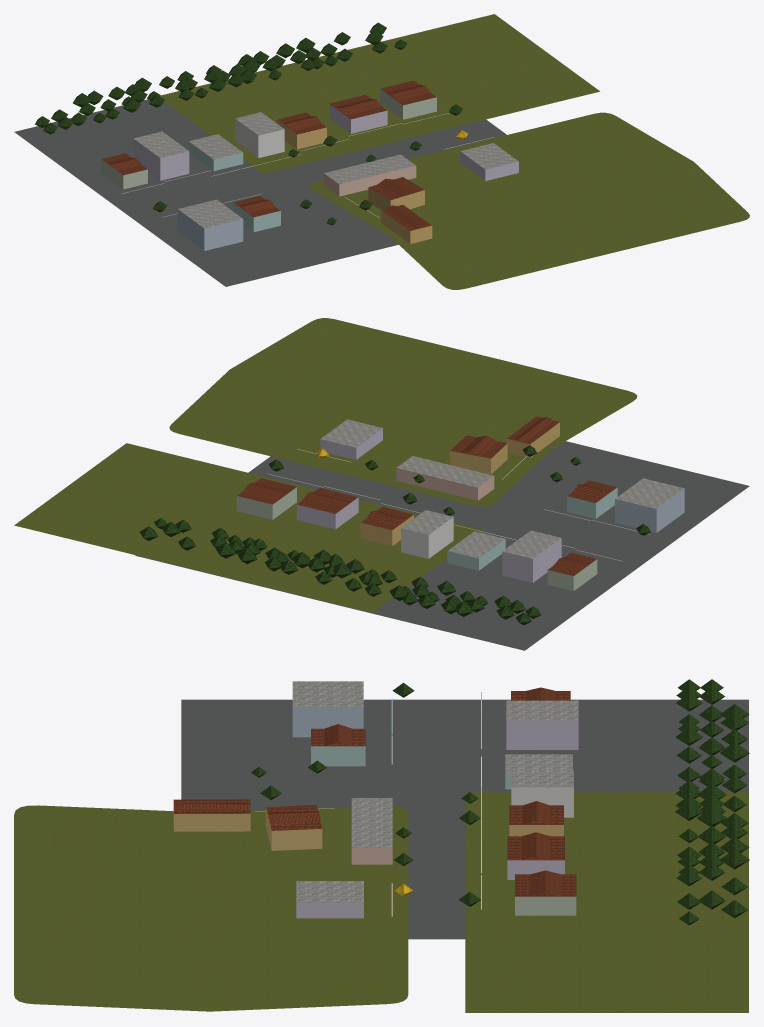
File: cidade_S04_07_lod.gltf
3 renders of one model, top to bottom at view 1: azimuth 30°, elevation 25°; view 2: azimuth 150°, elevation 25°; view 3: azimuth 270°, elevation 25°, orthographic. The views are drawn at different scales.
Parts seen in each view (by area): view 1: S04_07_Chao_LOD2, S04_07_Edificios_LOD1, S04_07_Vegetacao_LOD2, S04_07_Silhueta_LOD2; view 2: S04_07_Chao_LOD2, S04_07_Edificios_LOD1, S04_07_Vegetacao_LOD2, S04_07_Silhueta_LOD2; view 3: S04_07_Chao_LOD2, S04_07_Edificios_LOD1, S04_07_Vegetacao_LOD2, S04_07_Silhueta_LOD2.
Part boxes in pixels (x1,y1,x2,y2): S04_07_Chao_LOD2: (14, 14, 749, 289); S04_07_Edificios_LOD1: (101, 84, 518, 250); S04_07_Vegetacao_LOD2: (35, 22, 468, 225); S04_07_Silhueta_LOD2: (101, 80, 436, 243); S04_07_Chao_LOD2: (14, 318, 749, 650); S04_07_Edificios_LOD1: (236, 417, 684, 590); S04_07_Vegetacao_LOD2: (140, 445, 650, 625); S04_07_Silhueta_LOD2: (236, 416, 617, 590); S04_07_Chao_LOD2: (14, 699, 748, 1012); S04_07_Edificios_LOD1: (173, 681, 578, 918); S04_07_Vegetacao_LOD2: (251, 679, 749, 925); S04_07_Silhueta_LOD2: (173, 691, 576, 915).
Size of the model in its own units: 131 by 7.46 by 130.
Materials: 17 (17 with a texture image).
